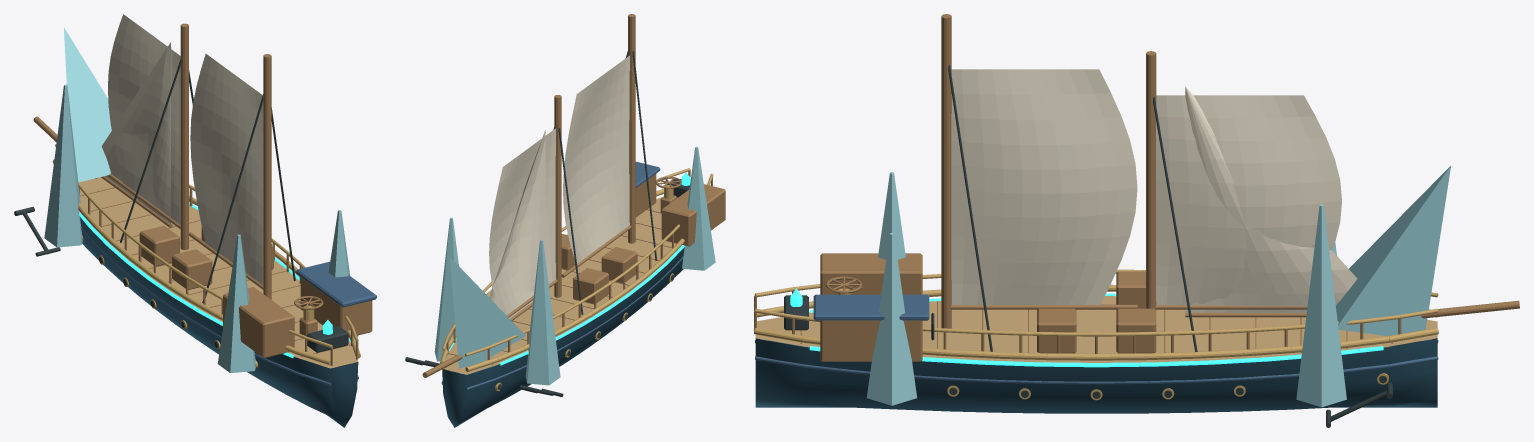
The model's file is premium_royal_schooner.glb.
The picture shows the model from 3 angles, left to right: view 1: azimuth 30°, elevation 25°; view 2: azimuth 150°, elevation 25°; view 3: azimuth 270°, elevation 25°; orthographic projection. The views are drawn at different scales.
Parts seen in each view (by area): view 1: premium_royal_schooner; view 2: premium_royal_schooner; view 3: premium_royal_schooner.
Part boxes in pixels (bbox=[...]): premium_royal_schooner: bbox=[14, 14, 376, 427]; premium_royal_schooner: bbox=[405, 14, 725, 427]; premium_royal_schooner: bbox=[754, 14, 1519, 427].
Bounding box in the file's own units: 3.86 × 7.6 × 13.47.
